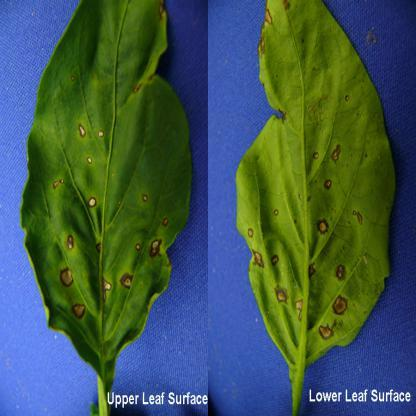Bell_pepper leaf: (22, 1, 196, 377), (233, 1, 398, 382)
